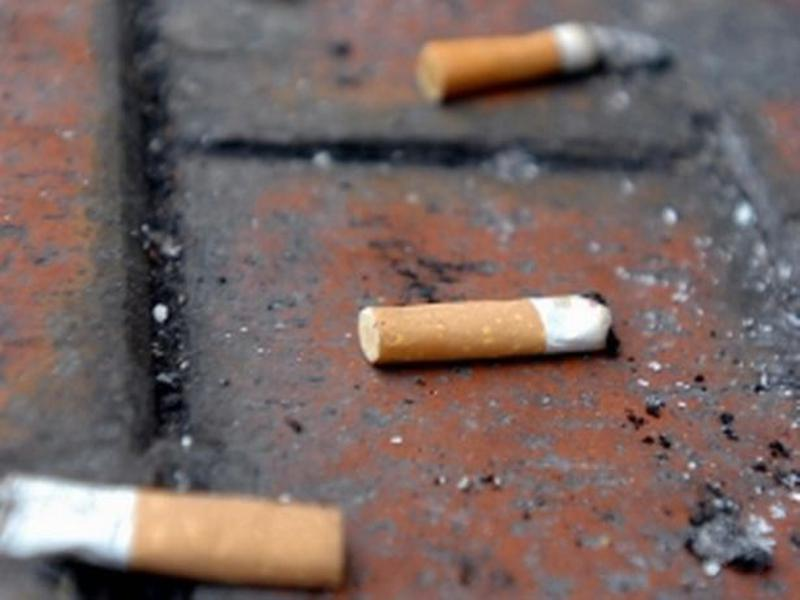burned_cigarette: (1, 476, 347, 593), (345, 286, 621, 369), (410, 20, 669, 106)
